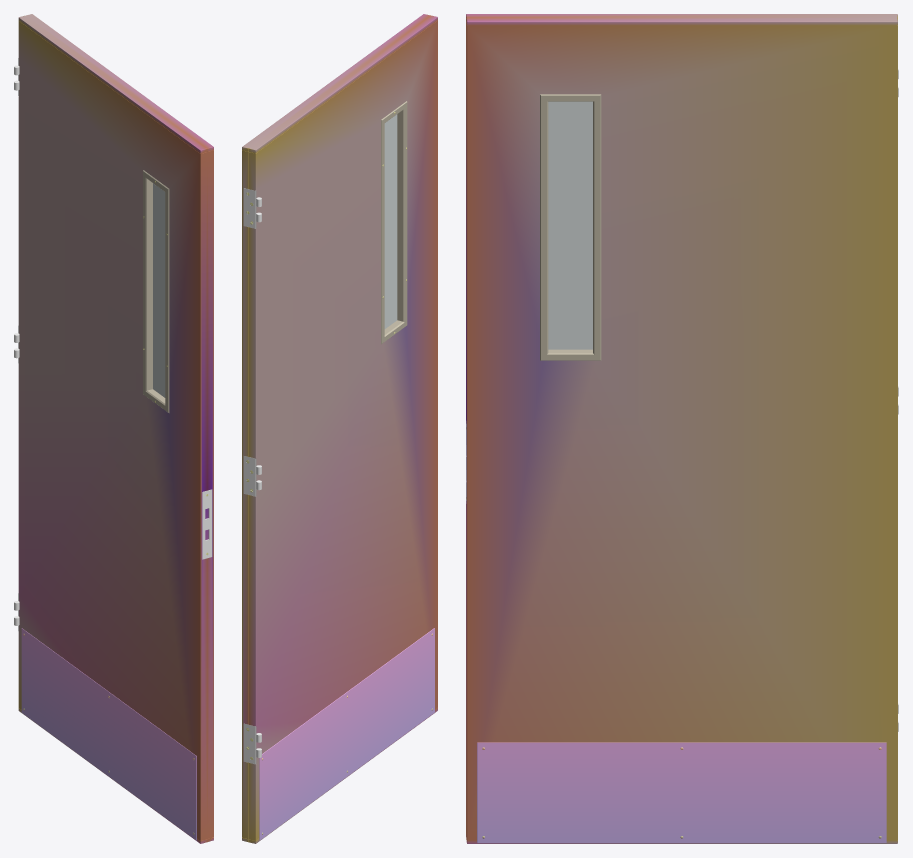
Rendered from Kit_DoorLeaf_SteelLite.fbx.
3 views of the same model, side by side, from view 1: azimuth 30°, elevation 25°; view 2: azimuth 150°, elevation 25°; view 3: azimuth 270°, elevation 25° (orthographic). The views are drawn at different scales.
Visible parts, largest first — view 1: Kit_DoorLeaf_SteelLite_LOD0; view 2: Kit_DoorLeaf_SteelLite_LOD0; view 3: Kit_DoorLeaf_SteelLite_LOD0.
Boxes of the visible parts, x1,y1,x2,y2 form: Kit_DoorLeaf_SteelLite_LOD0: (14, 14, 213, 843); Kit_DoorLeaf_SteelLite_LOD0: (242, 14, 437, 843); Kit_DoorLeaf_SteelLite_LOD0: (466, 14, 898, 843).
Size of what is drawn, in the model's own units: 0.0614 by 2.08 by 0.9925.
